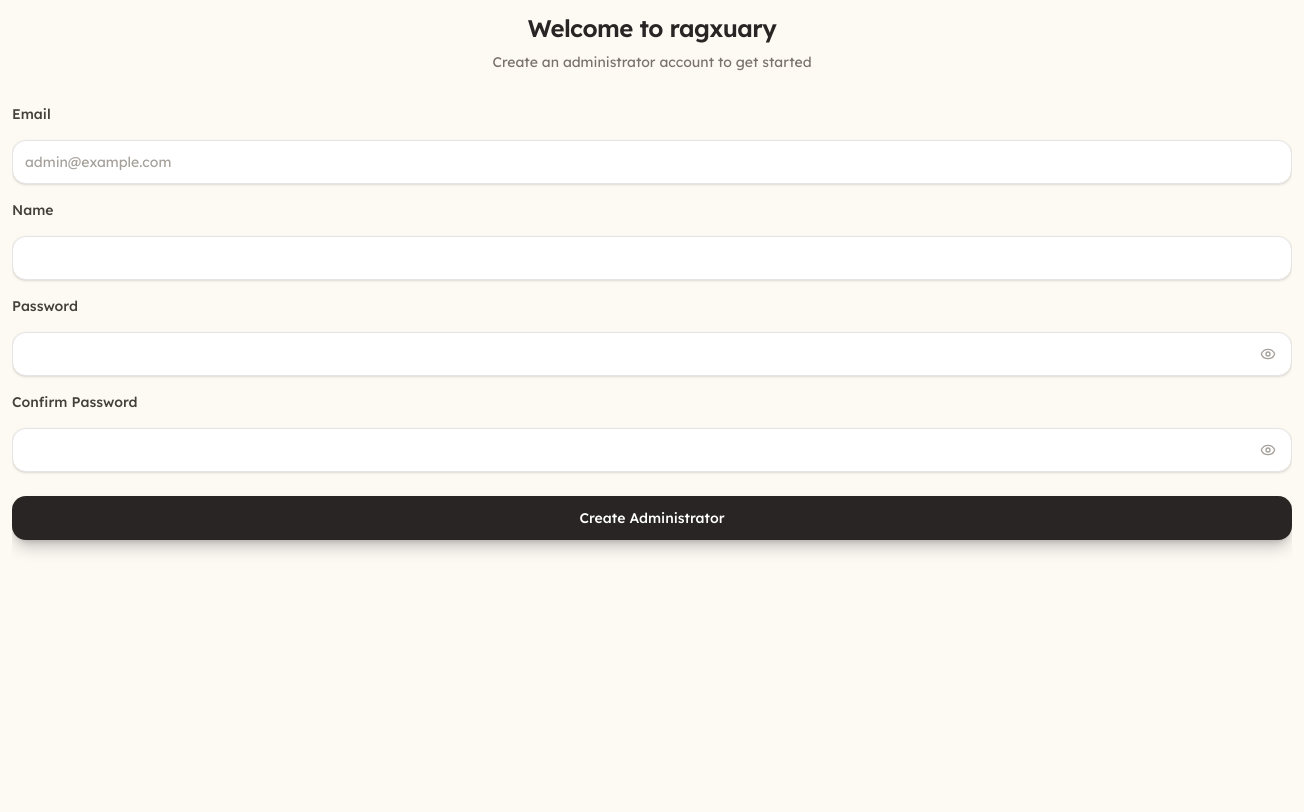
Test case: SetupForm component › should show error when password has no numbers
The width and height of the screenshot is (1304, 812).
Type "abcdefgh" into the 1st password field named "password".
click(652, 354); type("abcdefgh")  # box [12,332,1292,376]
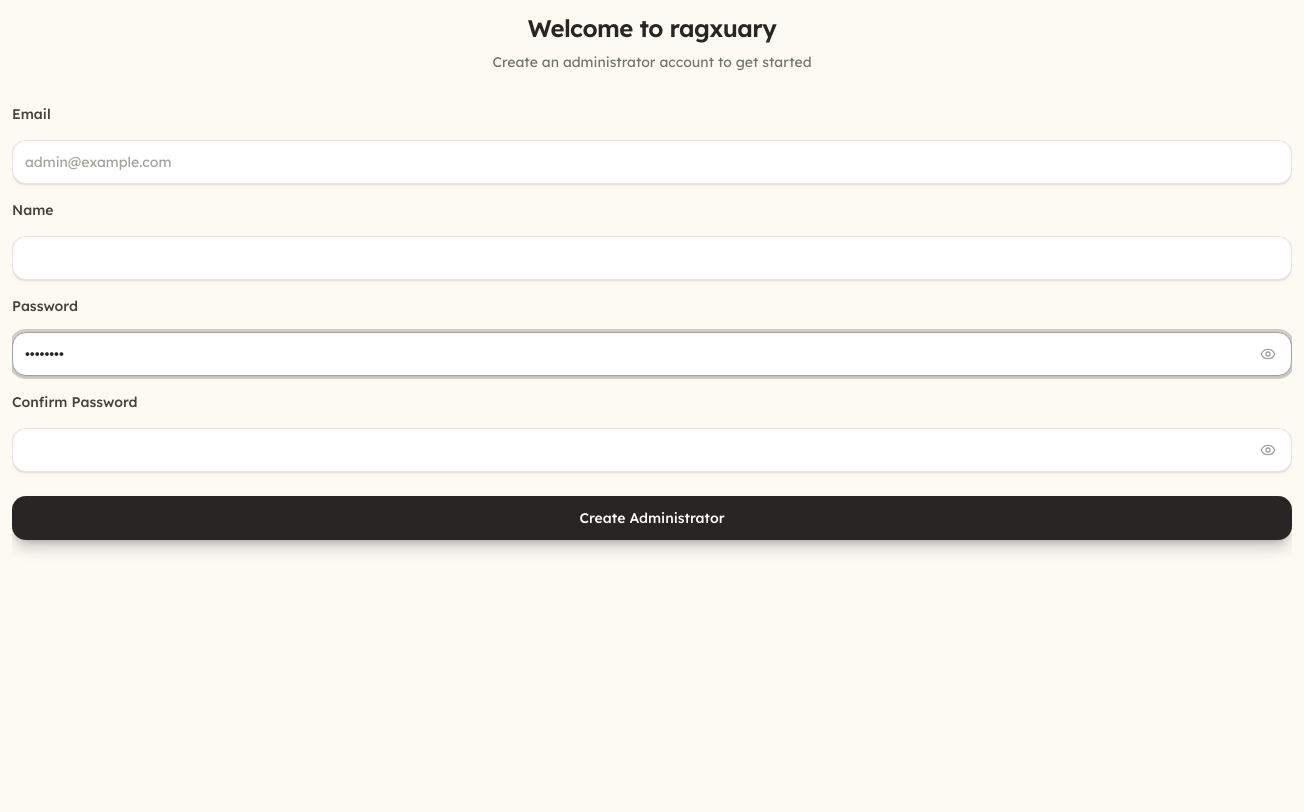
Click the button "Create Administrator".
click(652, 518)  # box [12,496,1292,540]
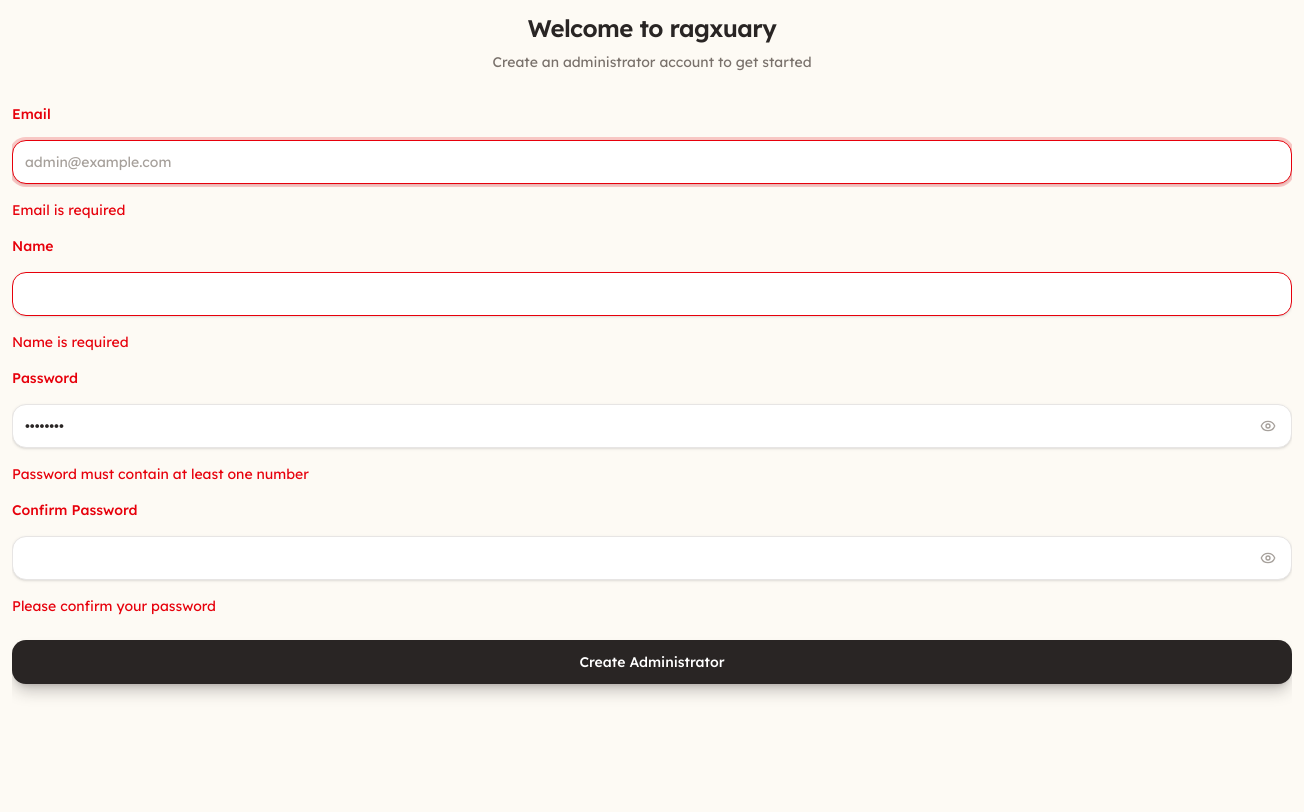
Check: the text "Password must contain at least one number" is shown, box [12,465,309,483]
